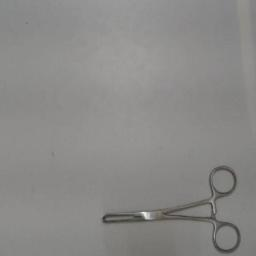Allis Tissue Forceps: (96, 161, 244, 255)
